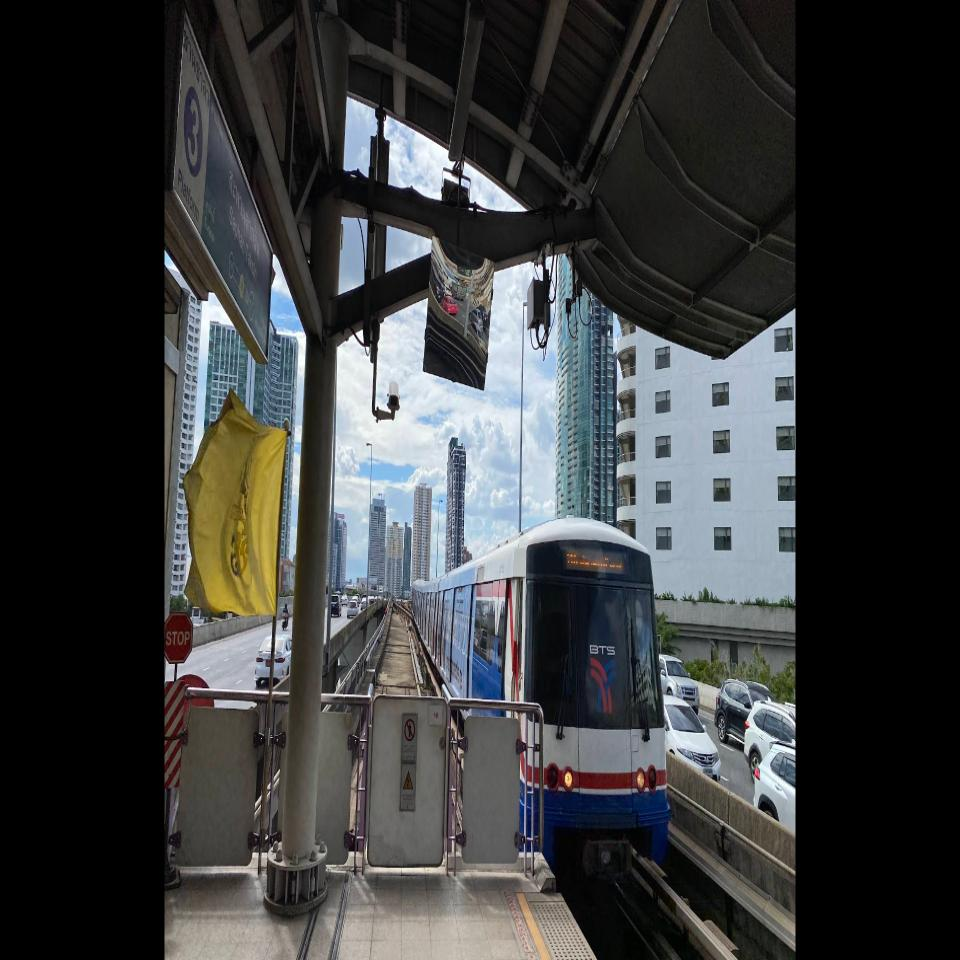signage: (228, 125, 260, 351)
